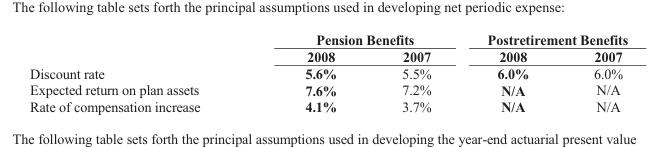table: (29, 29, 627, 115)
table column: (29, 29, 251, 115), (251, 29, 368, 115), (458, 29, 560, 115), (368, 29, 458, 115), (560, 29, 627, 115)
table column header: (29, 29, 627, 64)
table row: (29, 29, 627, 47), (29, 97, 627, 115), (29, 47, 627, 64), (29, 64, 627, 81), (29, 81, 627, 97)
table spanning cell: (251, 29, 458, 47), (458, 29, 627, 47)
